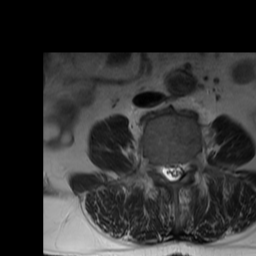CCS_normal: (170, 157, 177, 189)
LFS_normal: (185, 156, 192, 177)
LLS_normal: (178, 157, 184, 185)
RFS_normal: (155, 158, 162, 179)
RLS_normal: (162, 157, 169, 183)
